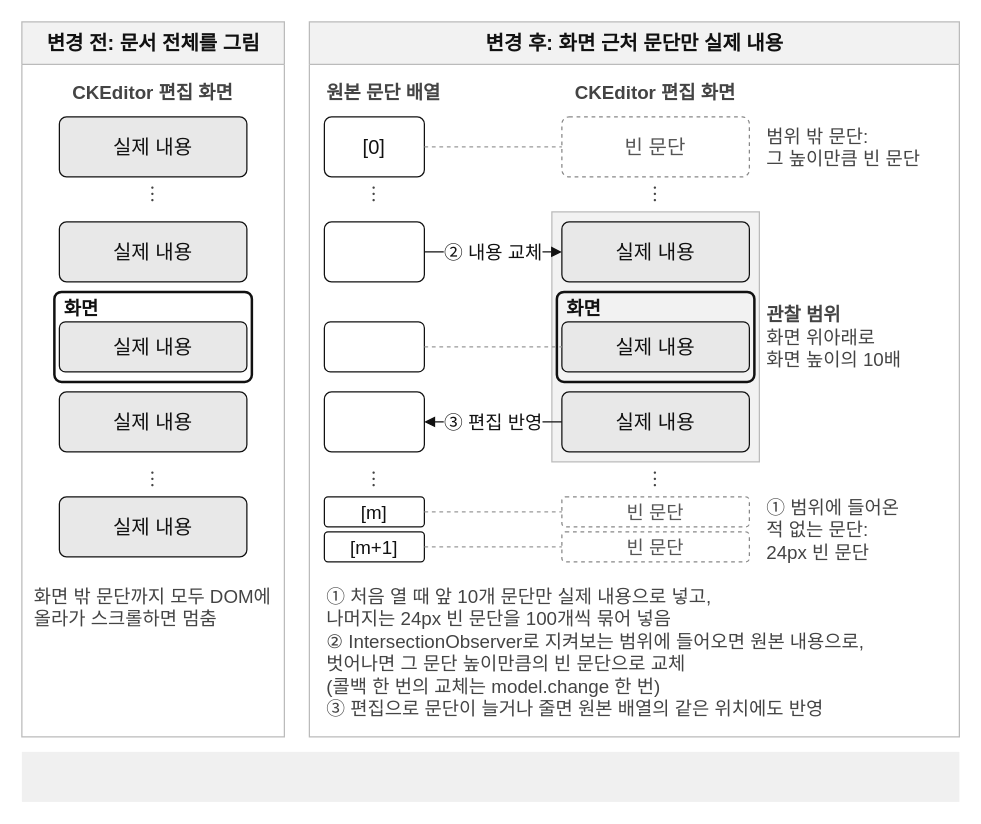
The diagram is 981 pixels wide and 824 high, and some of its shapes have lost their labels. Here are the shapes that lost their labels. From the top down, the centre of each, then its label:
the point at 373,251: [k]
the point at 373,346: [k+1]
the point at 373,421: [k+2]
the point at 490,776: 실제 내용으로 그리는 문단: 문서 전체 → 화면 근처만 · 스크롤 멈춤(체감) 약 20초 → 1초 안팎
